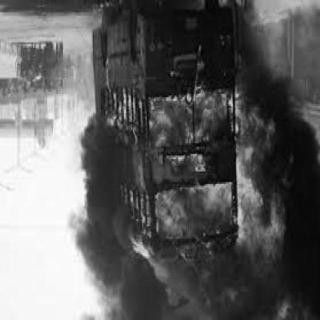Fire: (170, 3, 252, 15), (193, 59, 205, 77)
